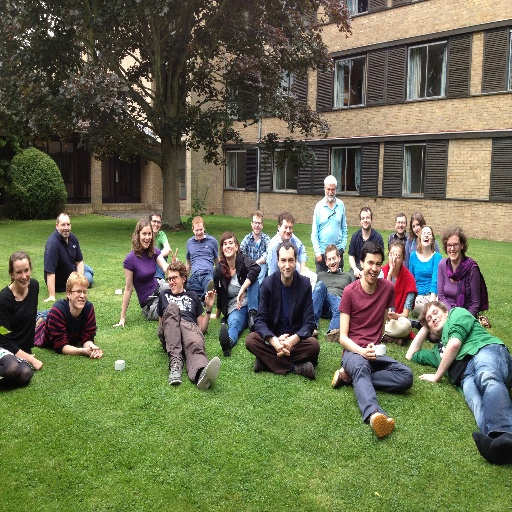hand: (271, 332, 291, 357), (275, 336, 295, 361), (362, 339, 377, 362), (87, 340, 100, 361), (86, 344, 105, 358), (235, 287, 245, 313), (30, 355, 44, 371), (168, 246, 180, 264), (389, 248, 398, 271), (416, 372, 436, 382), (204, 288, 214, 307), (111, 318, 126, 327), (40, 295, 56, 303), (352, 267, 362, 279), (385, 310, 397, 320), (314, 254, 323, 265)
